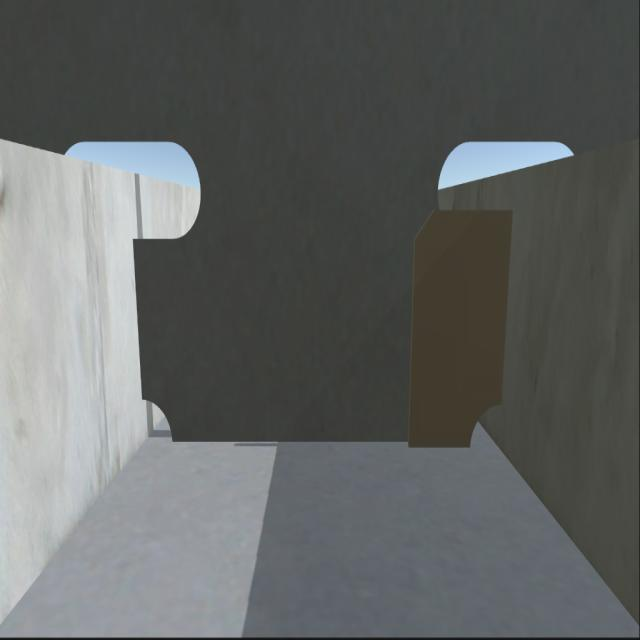fillet_hole: (469, 408, 501, 449), (142, 408, 171, 443)
fillet_yong_jeop_jang: (177, 439, 467, 447)
longi_yong_jeop_jang: (492, 212, 510, 396), (127, 241, 139, 404)
plate_CP03: (411, 215, 507, 444)
